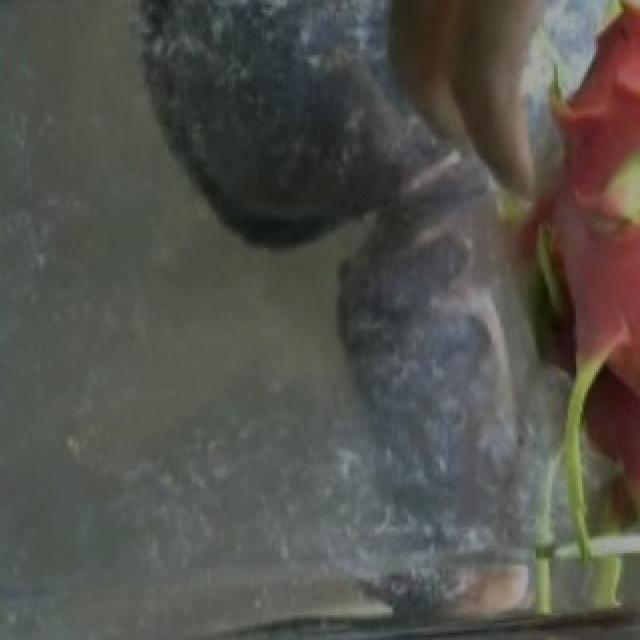fruit: (390, 2, 640, 394)
